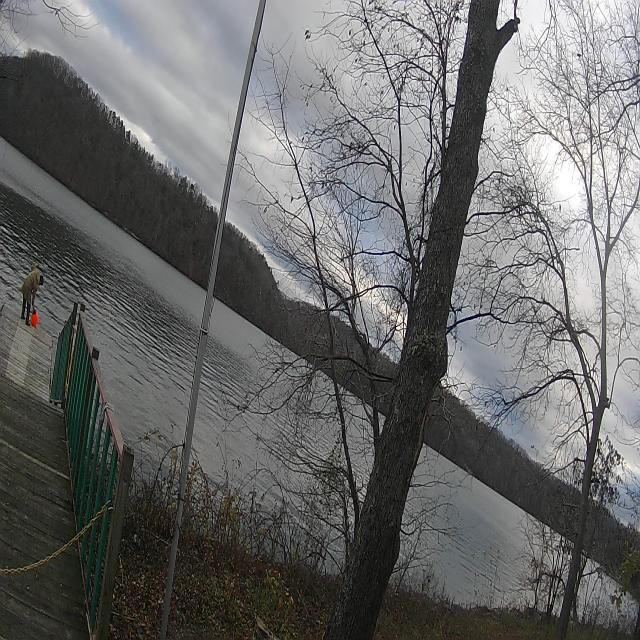Buoy: (31, 307, 40, 331)
